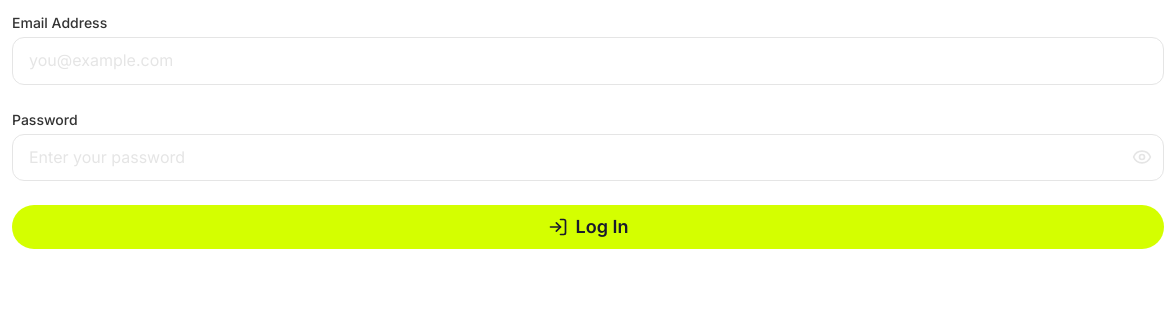
it: LoginForm › shows validation errors for empty submission
Click the button "Log In" at (588, 227), box [12,205,1164,249]
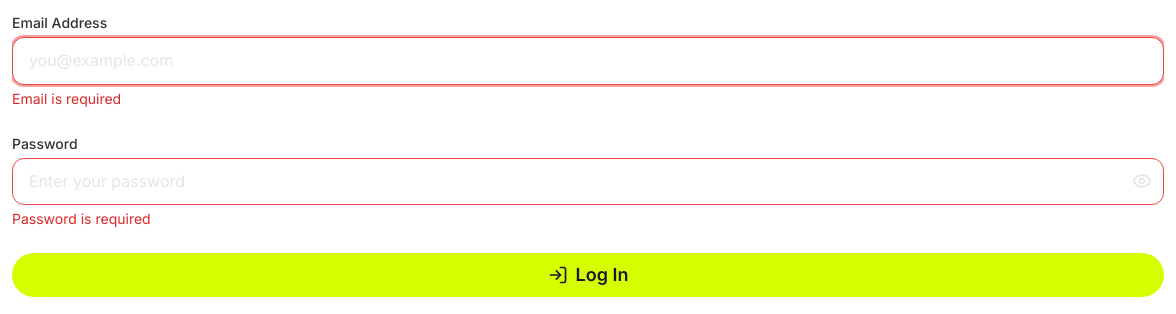
Check: the message "Email is required" is shown, box [12,90,121,107]
